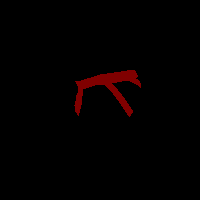mutande: (74, 69, 141, 117)
